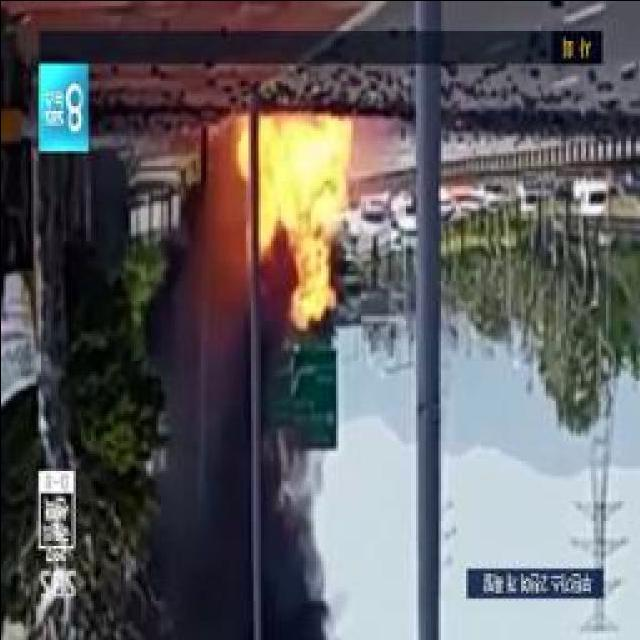Fire: (286, 110, 346, 310), (235, 100, 283, 236)
